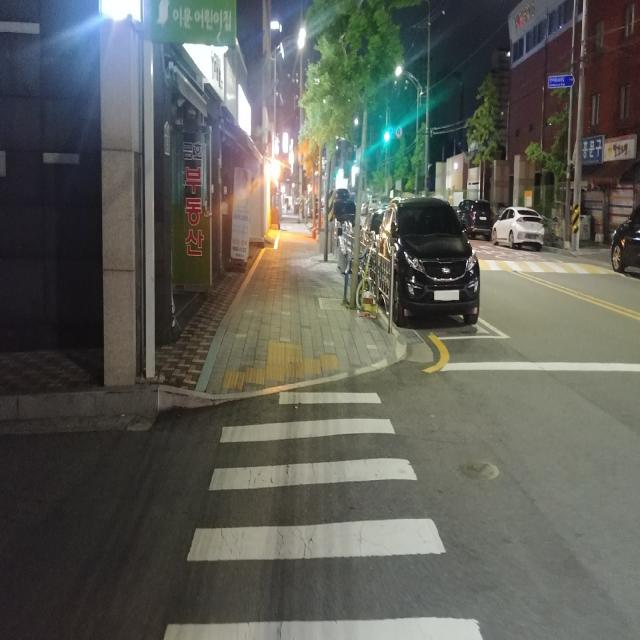횡단보도: (162, 388, 483, 640)
